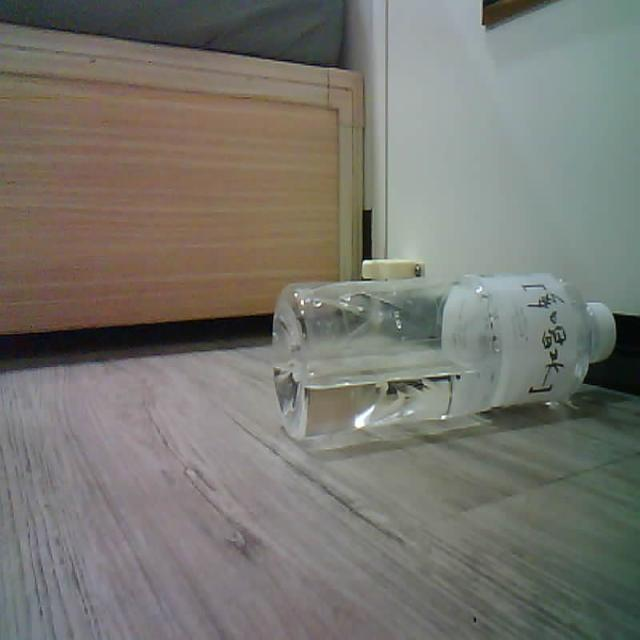bottle: (273, 273, 615, 438)
